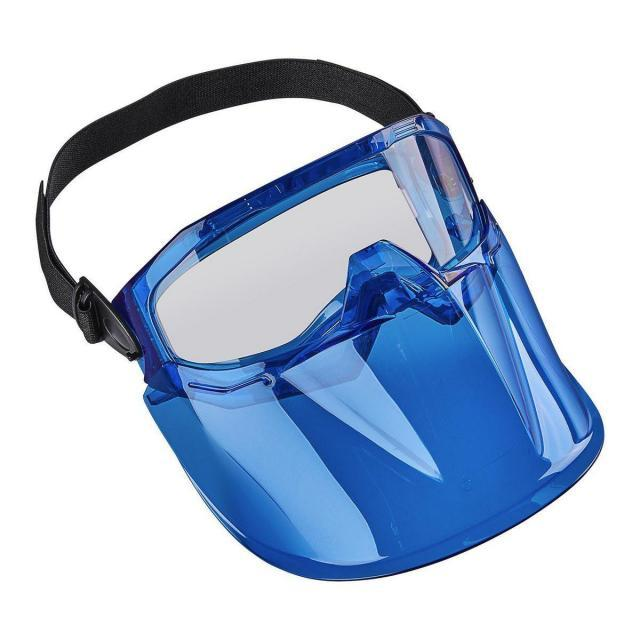Goggles: (25, 47, 623, 588)
